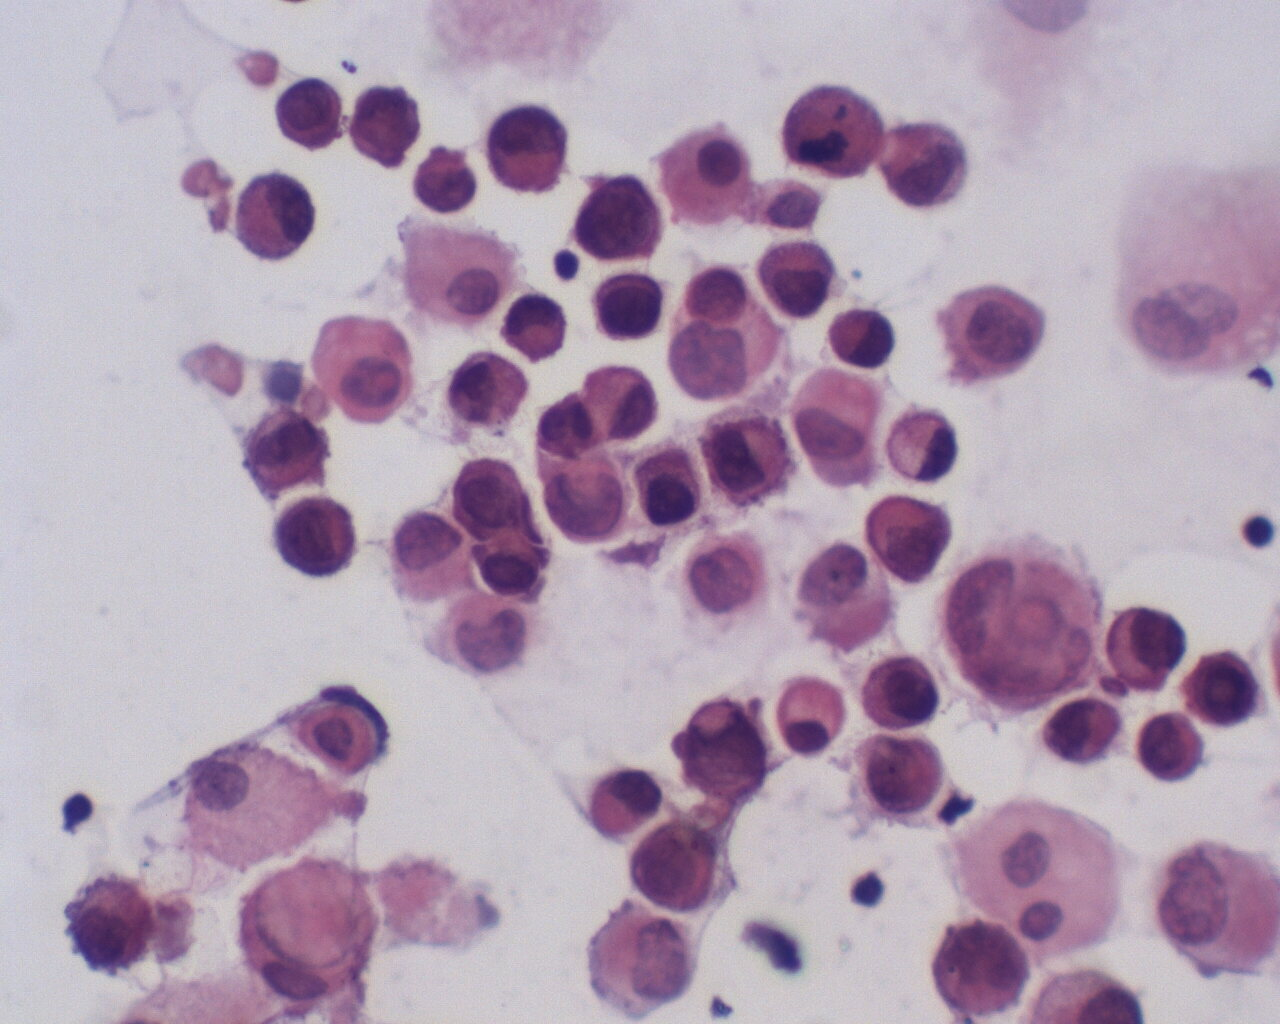ab: (675, 686, 774, 806), (939, 283, 1051, 388), (627, 815, 736, 921), (62, 869, 161, 983), (926, 915, 1030, 1018), (568, 160, 670, 265), (853, 487, 959, 587), (1103, 589, 1202, 697), (451, 443, 545, 546), (880, 112, 976, 212), (698, 415, 799, 509), (482, 98, 574, 197), (855, 731, 944, 828), (851, 646, 948, 734), (272, 492, 367, 581), (1179, 638, 1273, 727), (343, 75, 427, 173), (585, 266, 678, 349), (447, 344, 529, 433), (763, 236, 850, 318), (631, 446, 709, 536), (466, 529, 556, 603), (1132, 707, 1213, 785), (1039, 695, 1117, 769), (411, 139, 482, 219), (275, 73, 346, 152), (825, 304, 897, 372)
histo: (237, 850, 377, 1005), (182, 748, 331, 878)
lymph: (1233, 510, 1279, 555)
meso: (653, 118, 754, 229), (773, 671, 854, 757)
